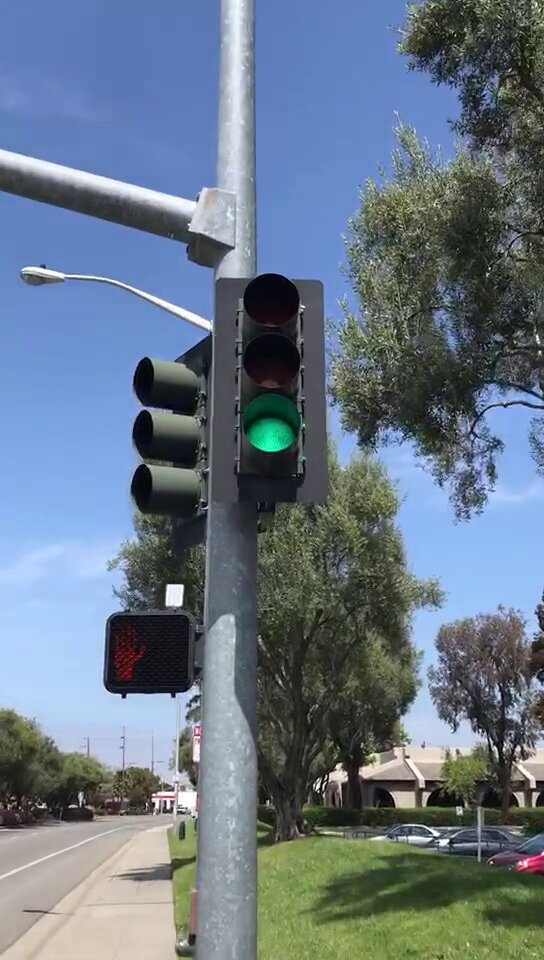green_light: (215, 281, 323, 500)
